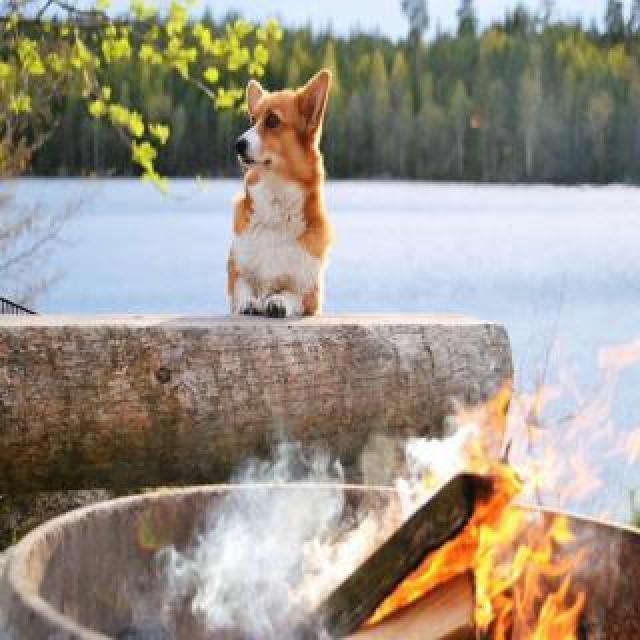Fire: (392, 464, 578, 638)
Smoke: (126, 386, 394, 638)
